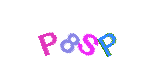8: (34, 0, 114, 80)
P: (28, 0, 108, 80), (67, 0, 147, 80)
S: (46, 0, 126, 80)
